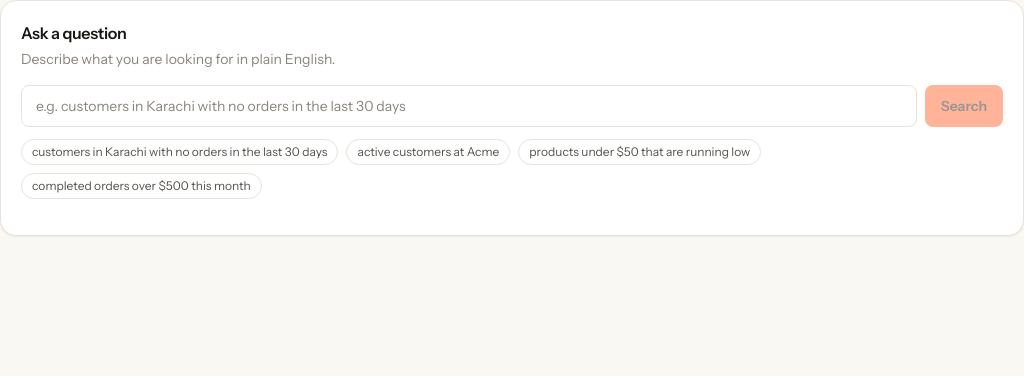
Test: AiSearchBar › renders the matching records
This screenshot has width=1024, height=376.
Step 1. Type "customers in Karachi" into the field → x=469, y=106, box [21,85,917,127]
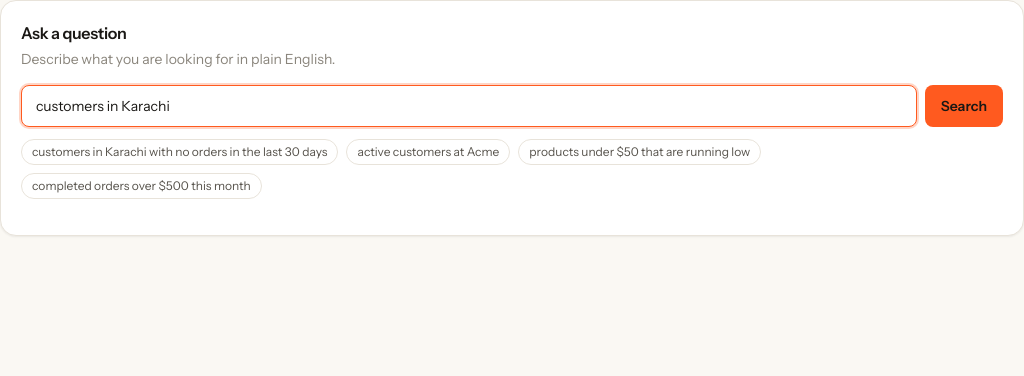
Step 2. Click the button "Search" → x=964, y=106, box [925,85,1003,127]
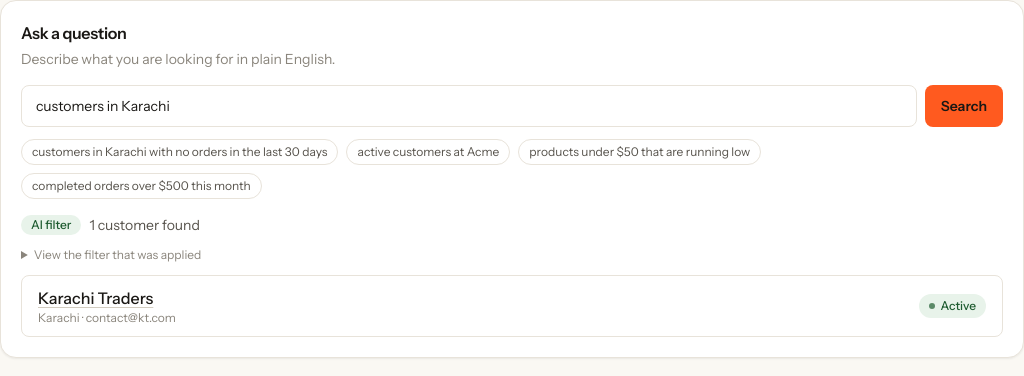
Expected: the link "Karachi Traders" is shown, [38,288,153,308]
